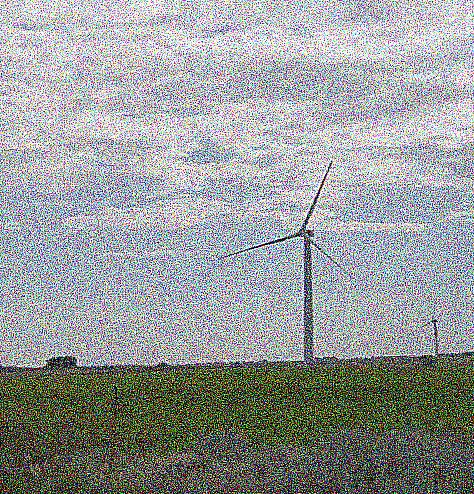wind turbine: (218, 160, 349, 362)
